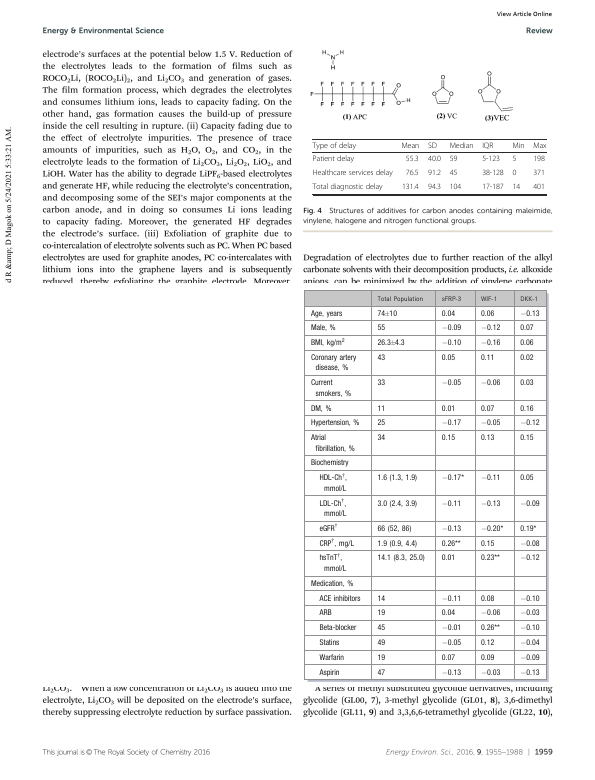bordered: (304, 288, 546, 679)
borderless: (311, 138, 546, 194)
cell: (309, 354, 357, 373), (309, 434, 355, 453), (309, 379, 352, 399), (312, 169, 394, 179), (312, 183, 384, 193), (318, 472, 347, 494), (318, 498, 347, 519), (318, 553, 347, 574), (309, 419, 360, 428), (376, 554, 425, 563), (312, 155, 355, 165), (309, 579, 354, 588), (312, 142, 357, 151), (309, 337, 345, 348), (318, 594, 361, 603), (376, 474, 418, 483), (376, 499, 418, 508), (376, 539, 418, 548), (376, 296, 423, 304), (309, 459, 349, 468), (376, 524, 412, 534), (318, 538, 354, 548), (318, 624, 357, 633), (309, 309, 343, 318), (376, 339, 405, 348), (479, 524, 504, 534), (309, 324, 336, 333), (318, 653, 345, 662), (481, 169, 505, 179), (481, 183, 505, 193), (449, 142, 474, 151), (318, 523, 338, 534), (440, 524, 462, 534), (318, 638, 340, 648), (440, 638, 462, 648), (440, 474, 464, 483), (519, 638, 540, 648), (309, 404, 332, 413), (481, 155, 501, 165), (376, 309, 398, 318), (440, 324, 462, 333), (479, 324, 501, 333), (440, 339, 462, 348), (479, 339, 501, 348), (440, 379, 462, 388), (479, 379, 501, 388), (440, 419, 462, 428), (479, 419, 501, 428), (479, 474, 501, 483), (440, 499, 462, 508), (479, 499, 501, 508), (440, 594, 462, 603), (479, 609, 501, 618), (440, 624, 462, 633), (318, 668, 340, 677), (440, 668, 462, 677), (479, 668, 501, 677), (401, 183, 420, 193), (519, 309, 540, 318), (519, 419, 540, 428), (519, 499, 540, 508), (440, 539, 461, 548), (519, 539, 540, 548), (479, 554, 500, 563), (519, 554, 540, 563), (519, 594, 540, 603), (519, 609, 540, 618), (479, 624, 500, 633), (519, 624, 540, 633), (519, 653, 540, 662), (519, 668, 540, 677), (519, 524, 537, 534), (400, 142, 420, 151), (440, 296, 462, 304), (479, 638, 495, 648), (519, 296, 538, 304), (405, 155, 420, 165), (427, 155, 442, 165), (405, 169, 420, 179), (427, 169, 442, 179), (427, 183, 442, 193), (479, 296, 497, 304), (440, 309, 456, 318), (479, 309, 495, 318), (440, 354, 456, 363), (479, 354, 495, 363), (440, 404, 456, 413), (479, 404, 495, 413), (440, 434, 456, 443), (479, 434, 495, 443), (479, 539, 495, 548), (440, 554, 456, 563), (479, 594, 495, 603), (440, 609, 456, 618), (440, 653, 456, 662), (479, 653, 495, 662), (532, 155, 546, 165), (532, 169, 546, 179), (532, 183, 546, 193), (519, 324, 534, 333), (519, 339, 534, 348), (519, 354, 534, 363), (519, 379, 534, 388), (519, 404, 534, 413), (519, 434, 534, 443), (519, 474, 534, 483), (532, 142, 547, 151), (449, 183, 462, 193), (318, 609, 332, 618), (511, 142, 525, 151), (481, 142, 494, 151), (376, 638, 386, 648), (511, 183, 521, 193), (427, 142, 438, 151), (376, 324, 386, 333), (376, 354, 386, 363), (376, 379, 386, 388), (376, 404, 386, 413), (376, 419, 386, 428), (376, 434, 386, 443), (376, 594, 386, 603), (376, 609, 386, 618), (376, 624, 386, 633), (376, 653, 386, 662), (376, 668, 386, 677), (449, 155, 458, 165), (449, 169, 458, 179), (511, 155, 517, 165), (511, 169, 517, 179)
